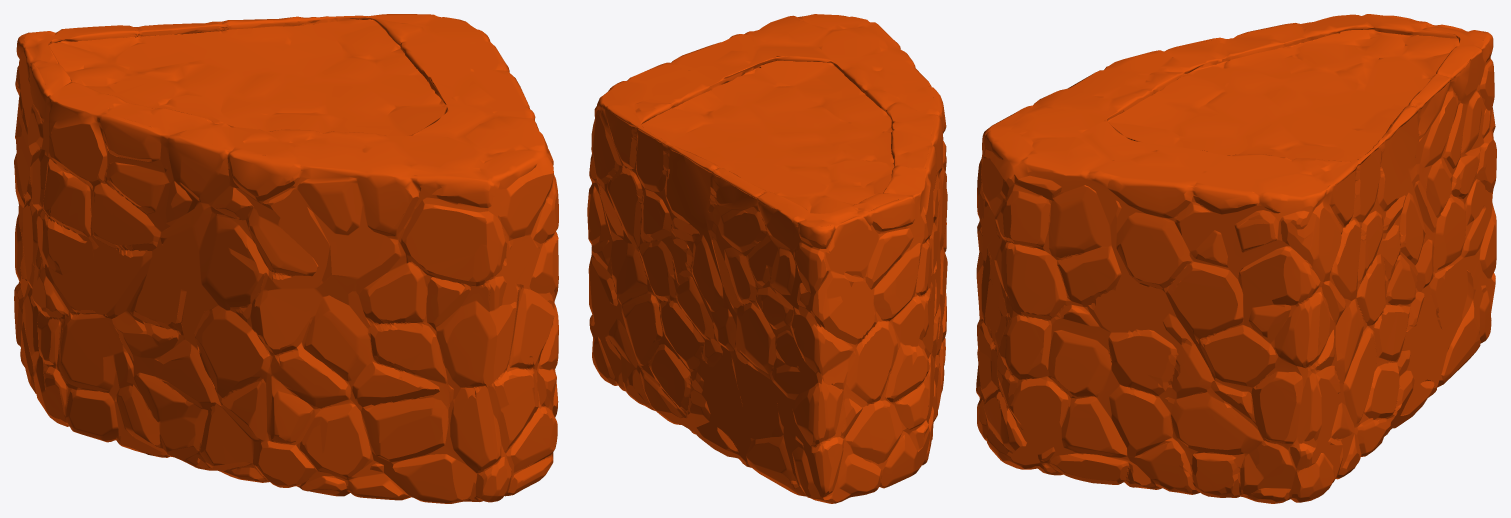
The picture shows the model from 3 angles, left to right: view 1: azimuth 30°, elevation 25°; view 2: azimuth 150°, elevation 25°; view 3: azimuth 270°, elevation 25°; orthographic projection. The views are drawn at different scales.
Visible parts, largest first — view 1: Mesh_45_LOD0; view 2: Mesh_45_LOD0; view 3: Mesh_45_LOD0.
Part boxes in pixels (left/top/right/bottom): Mesh_45_LOD0: left=14, top=14, right=558, bottom=503; Mesh_45_LOD0: left=587, top=14, right=947, bottom=503; Mesh_45_LOD0: left=976, top=14, right=1496, bottom=503.
Size of what is drawn, in the model's own units: 6714 by 5188 by 7685.
